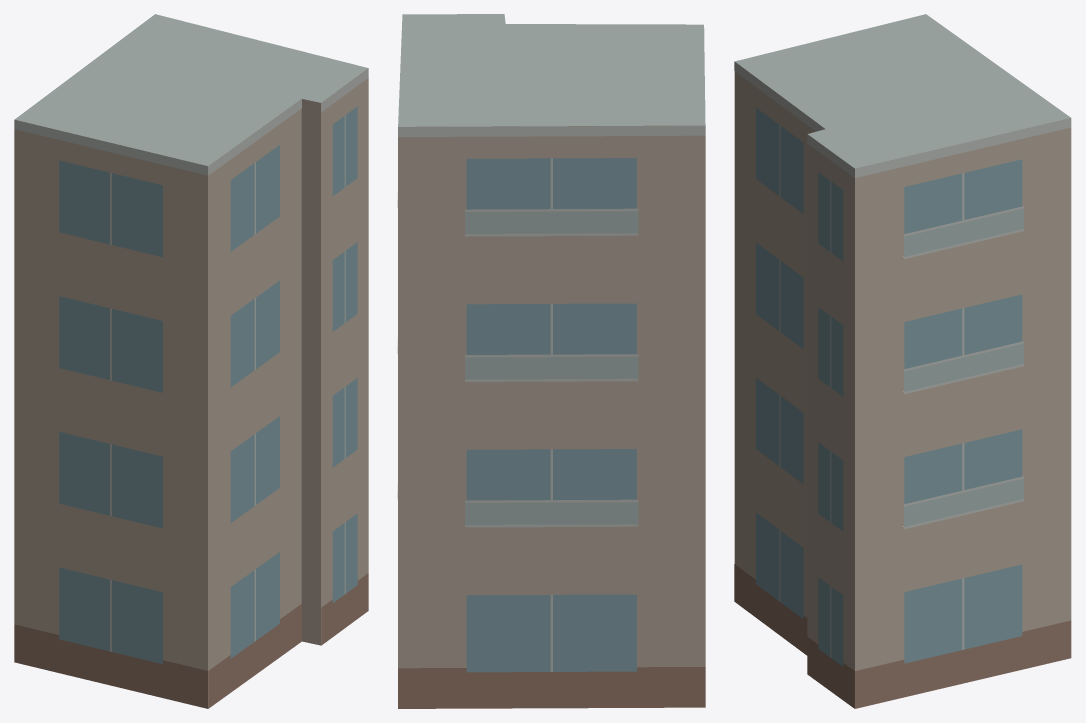
Rendered from survey-upis-32492704.glb.
3 renders of one model, left to right at view 1: azimuth 30°, elevation 25°; view 2: azimuth 150°, elevation 25°; view 3: azimuth 270°, elevation 25°, orthographic. The views are drawn at different scales.
Visible parts, largest first — view 1: survey-upis-32492704.tmp; view 2: survey-upis-32492704.tmp; view 3: survey-upis-32492704.tmp.
Boxes of the visible parts, box(x1,y1,x2,y2) form: survey-upis-32492704.tmp: box(14, 14, 368, 708); survey-upis-32492704.tmp: box(397, 14, 705, 708); survey-upis-32492704.tmp: box(734, 14, 1071, 708).
Bounding box in the file's own units: 8.54 × 13.9 × 7.86.
